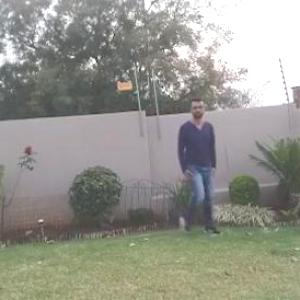follow: (161, 87, 223, 260)
